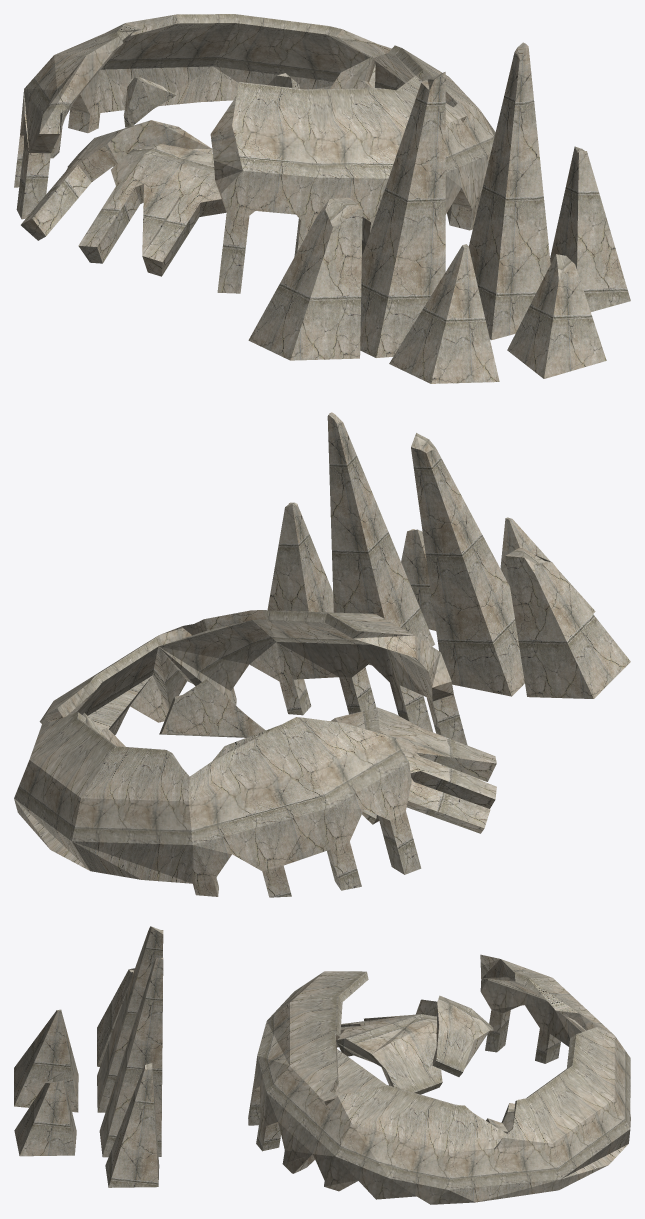
Rendered from poi_temple_ancient_ruined_l2.fbx.
3 views of the same model, one above another, from view 1: azimuth 30°, elevation 25°; view 2: azimuth 150°, elevation 25°; view 3: azimuth 270°, elevation 25° (orthographic). The views are drawn at different scales.
Visible parts, largest first — view 1: mesh_node; view 2: mesh_node; view 3: mesh_node.
Part boxes in pixels (box(x1,y1,x2,y2)): mesh_node: box(14, 14, 630, 383); mesh_node: box(14, 412, 630, 897); mesh_node: box(14, 926, 630, 1204).
Bounding box in the file's own units: 54.49 × 28.99 × 79.99.
